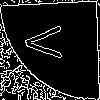V: (24, 24, 71, 61)
